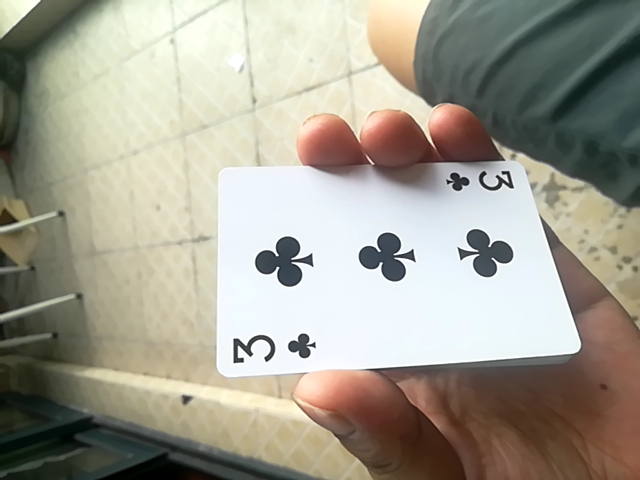mh 3: (208, 157, 573, 373)
